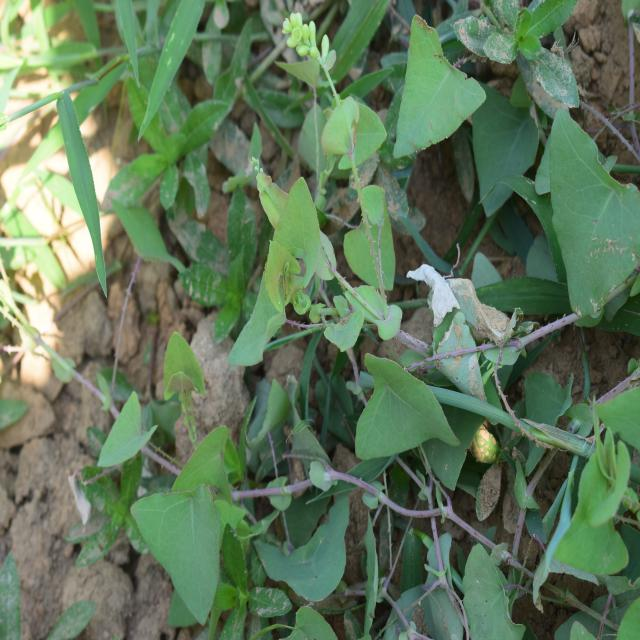Asiatic_Smartweed: (242, 88, 443, 461), (87, 284, 241, 608), (533, 107, 640, 319), (550, 410, 640, 602)
